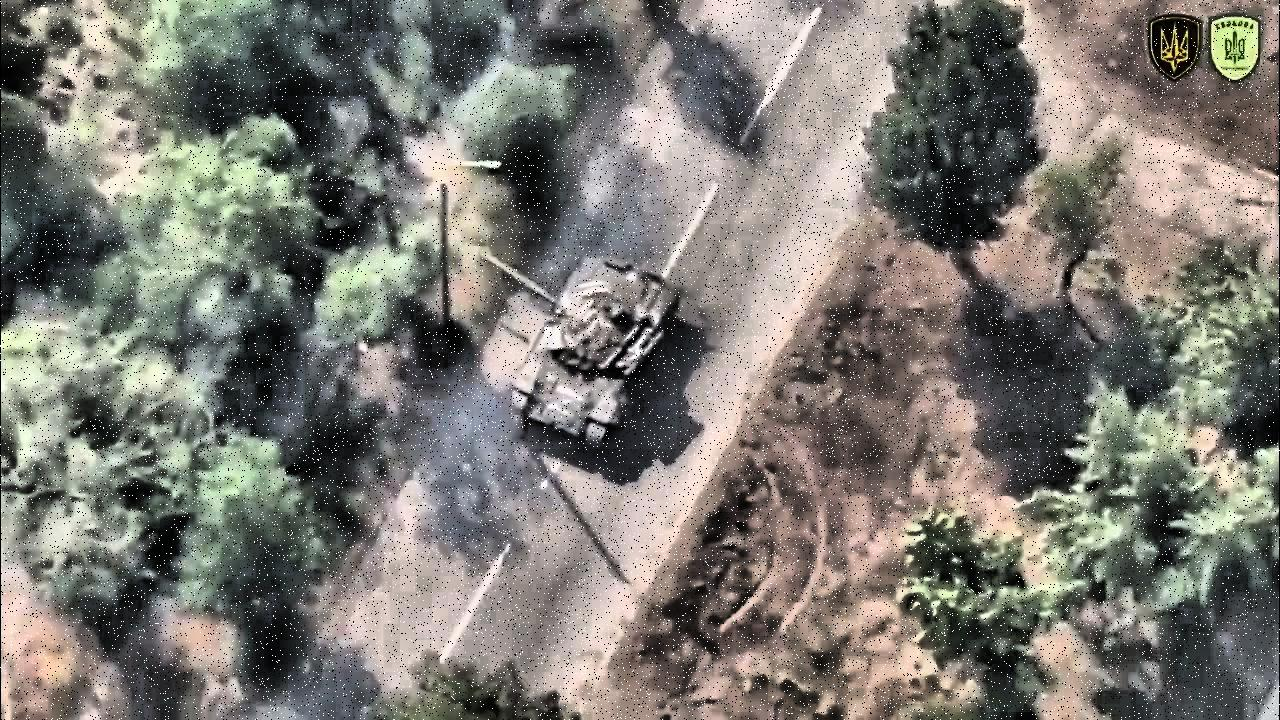military-vehicle: (474, 247, 677, 450)
